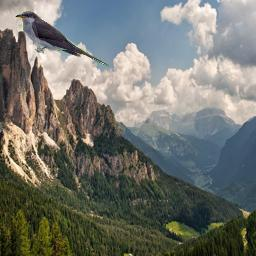Cuckoo: (14, 11, 109, 68)
